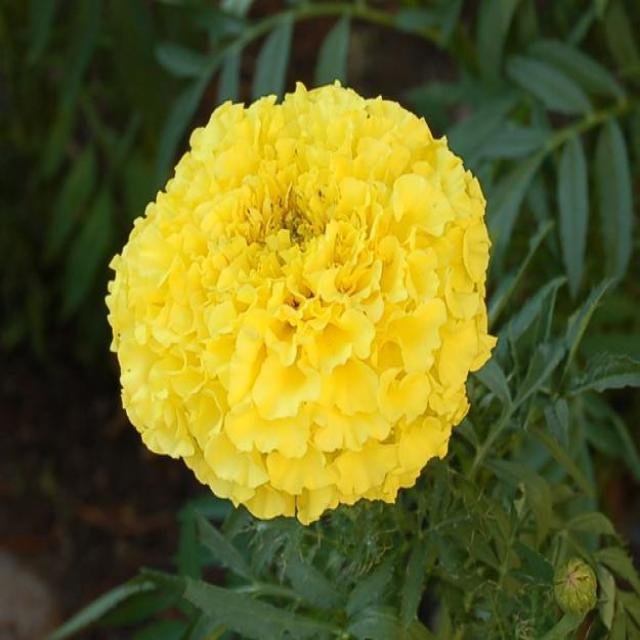marigold: (64, 64, 515, 568)
